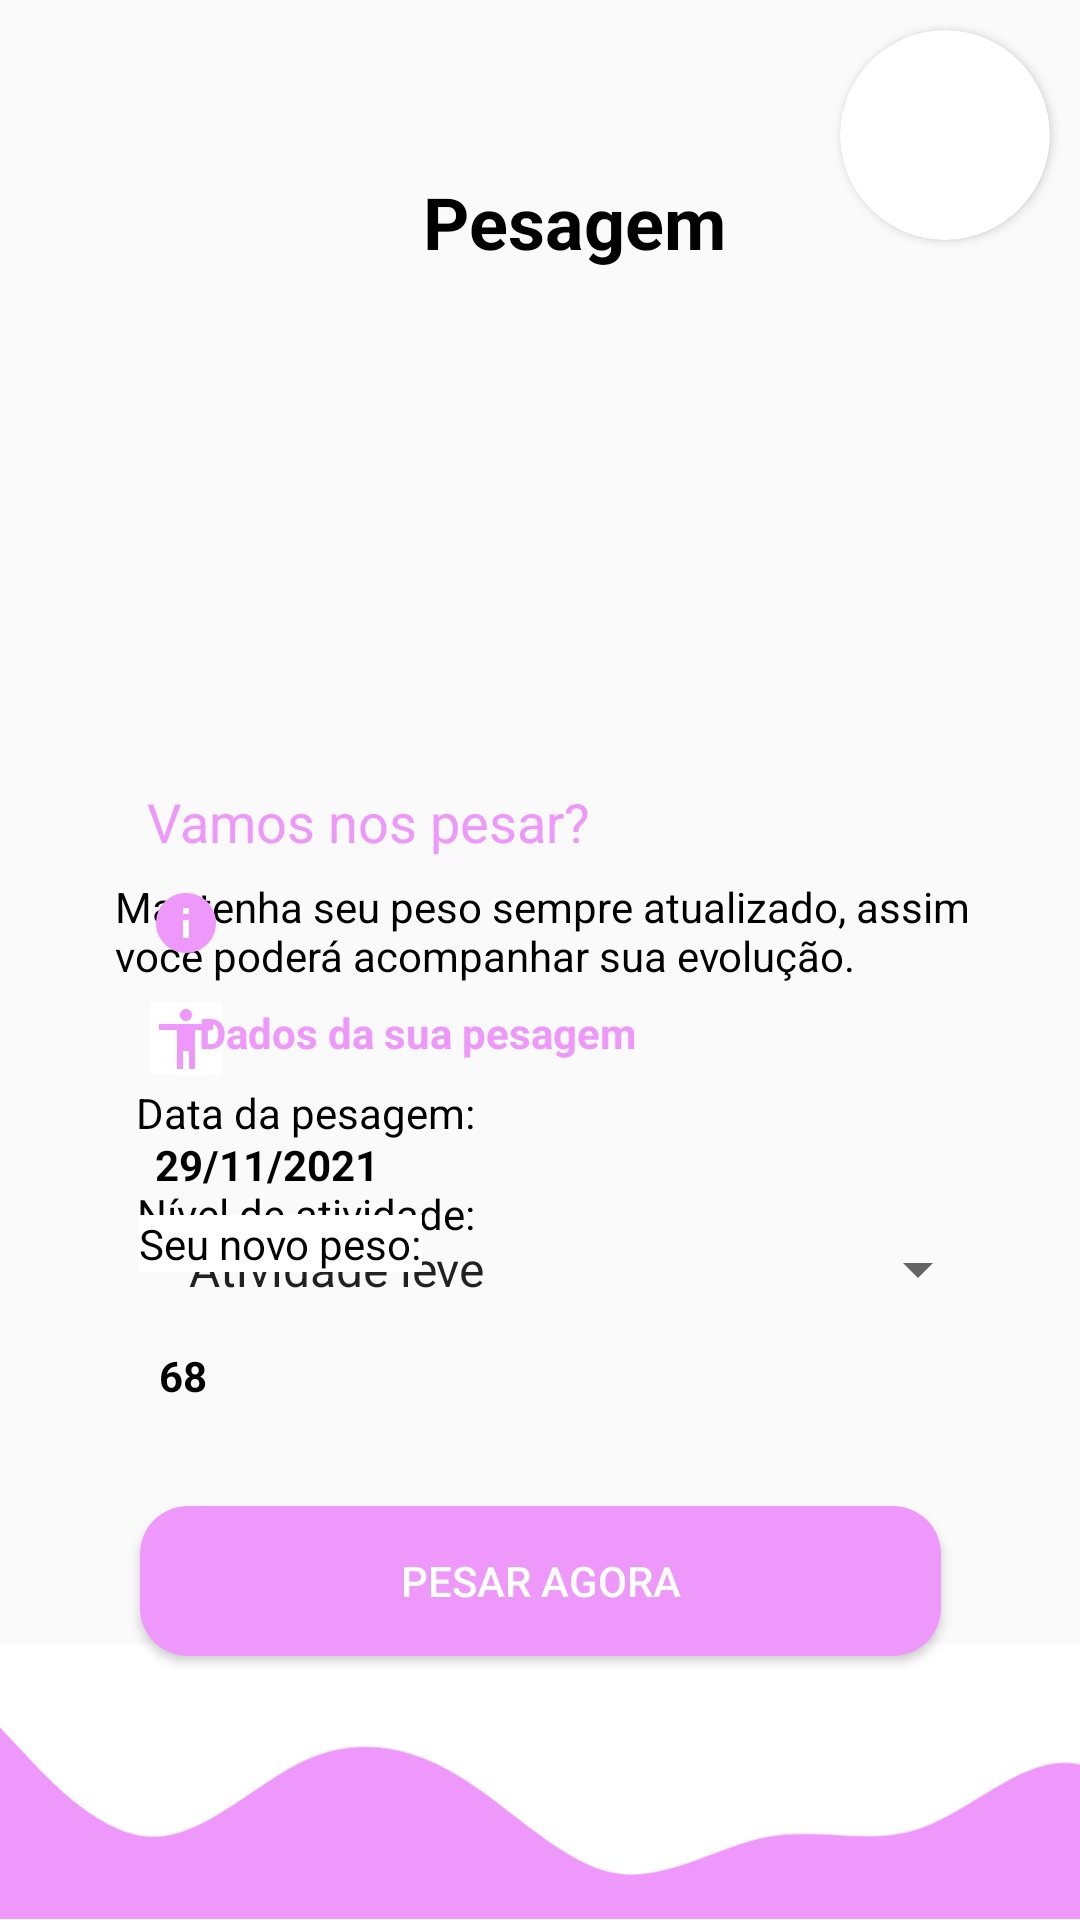

Where to tap for icons on this 1080w x 1920h app screen, as (x=x, y=y):
bonequinho: (x=190, y=1039)
info: (x=186, y=926)
